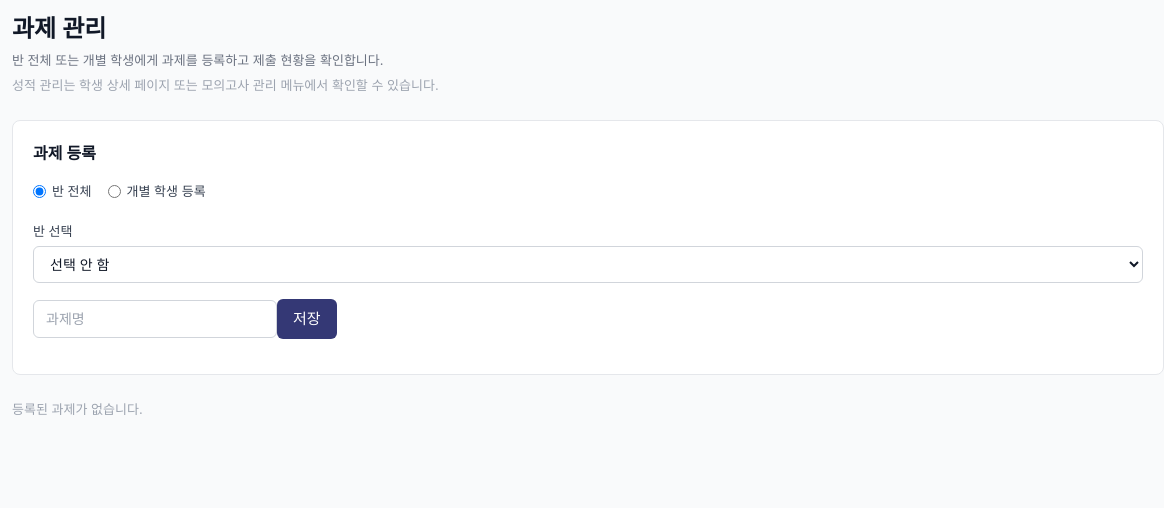
Test: 과제 관리 페이지 › apiClient.post가 실패(reject)하면 에러 메시지가 표시되고 폼 데이터가 유지된다
Click the radio button labelled "반 전체". click: (40, 192)
box: 33,185 -> 46,198
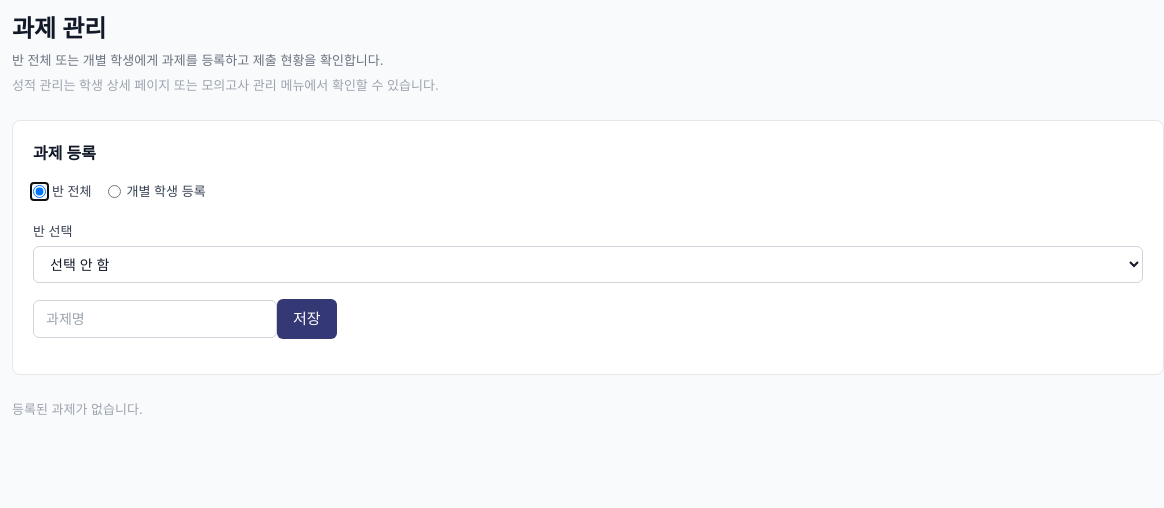
Select "수학 심화반" in the dropdown labelled "반 선택". click: (588, 264)
box: 33,246 -> 1143,283
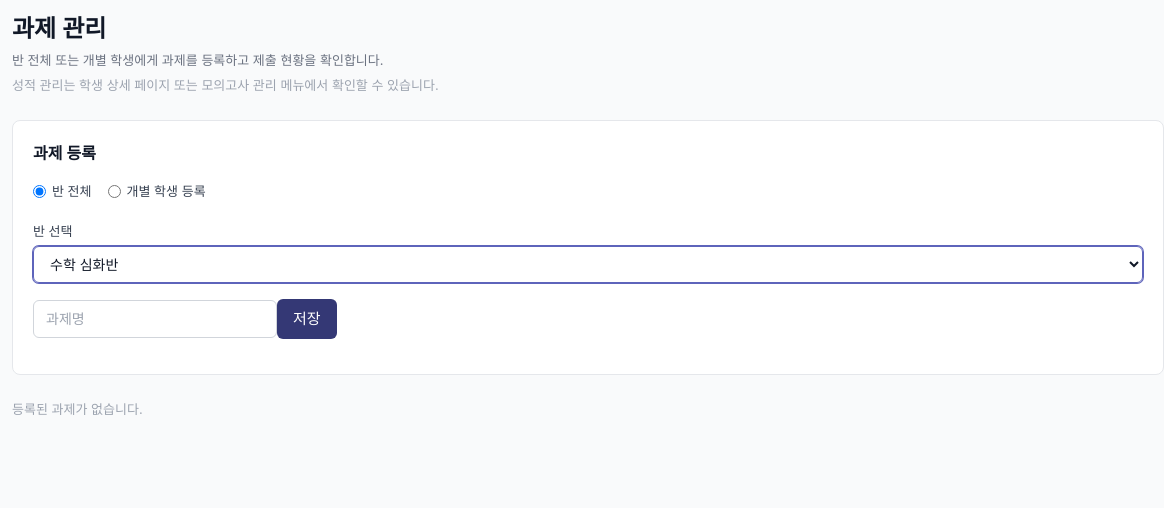
Type "실패할 과제" into the field with placeholder "과제명". click: (155, 319)
box: 33,300 -> 277,338
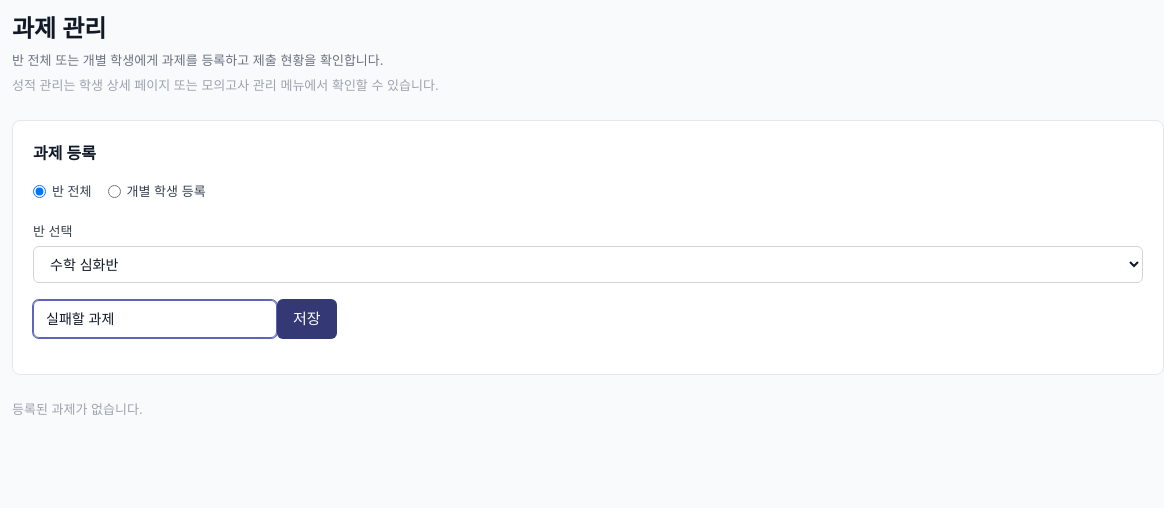
Click the button "저장". click: (307, 319)
box: 277,299 -> 337,339
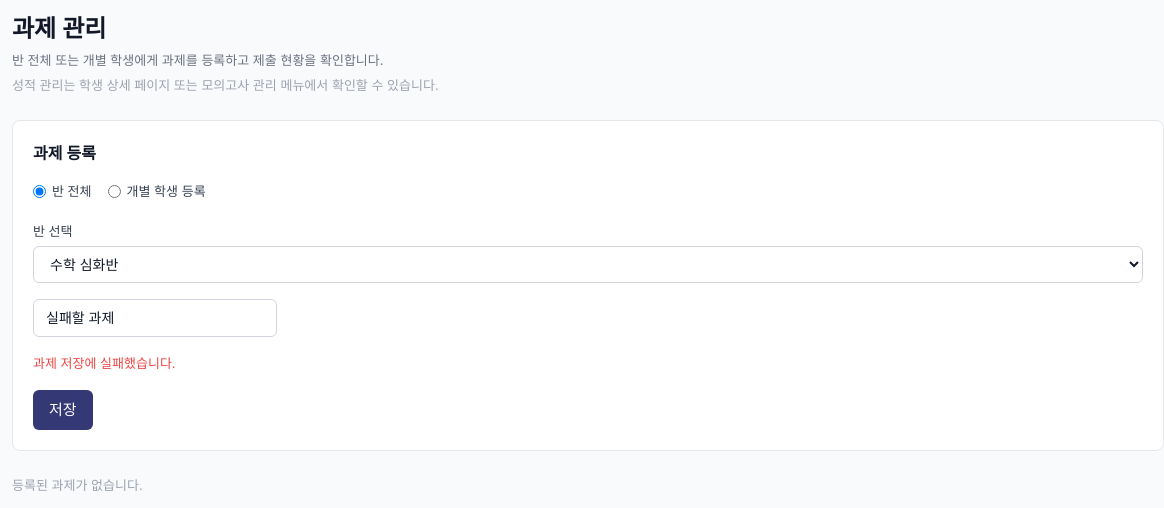
Check: the text "과제 저장에 실패했습니다." is shown, box 33,355 -> 176,371
